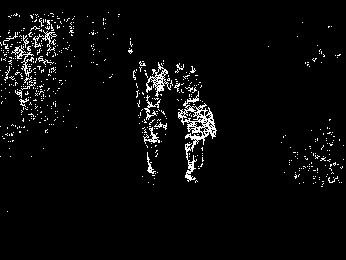person: (178, 88, 218, 185), (135, 93, 168, 186), (147, 56, 173, 110), (180, 61, 204, 102), (129, 59, 148, 106), (170, 61, 188, 107)
